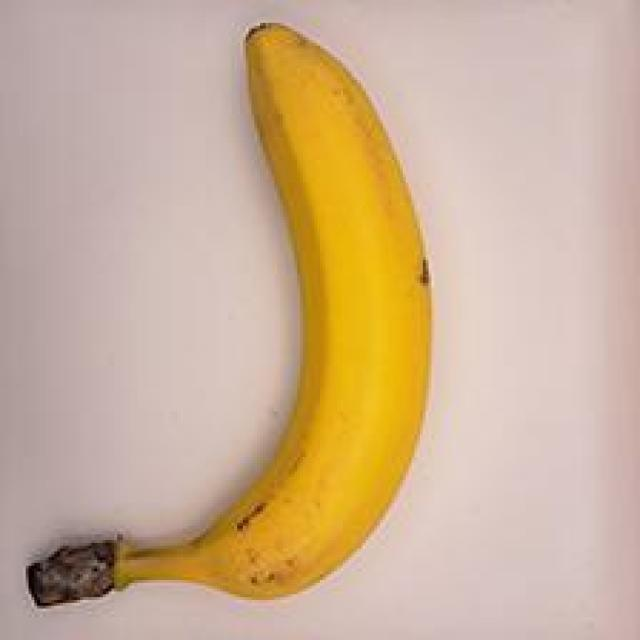Ripe: (0, 17, 486, 631)
